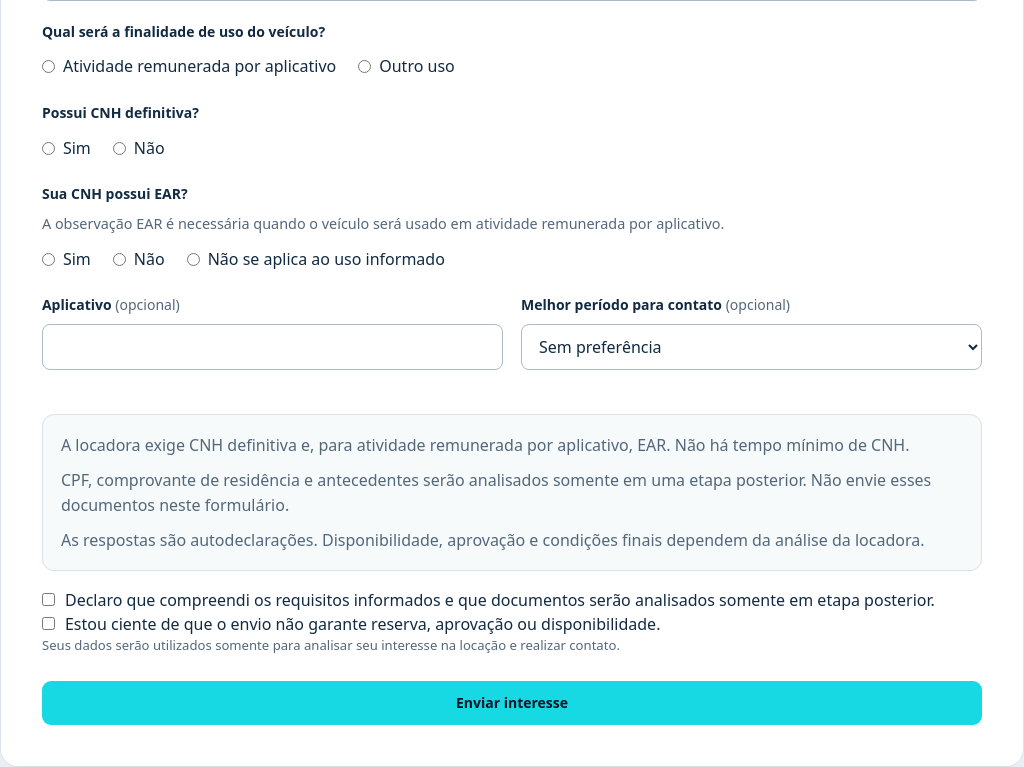
Test: exibe continuidade somente no sucesso com URL retornada pelo servidor: {"status":"success","message":"Sucesso"}
The image size is (1024, 767).
(page scrolled)
Click the button "Enviar interesse" at (512, 703), box [42,681,982,725]
(page scrolled)
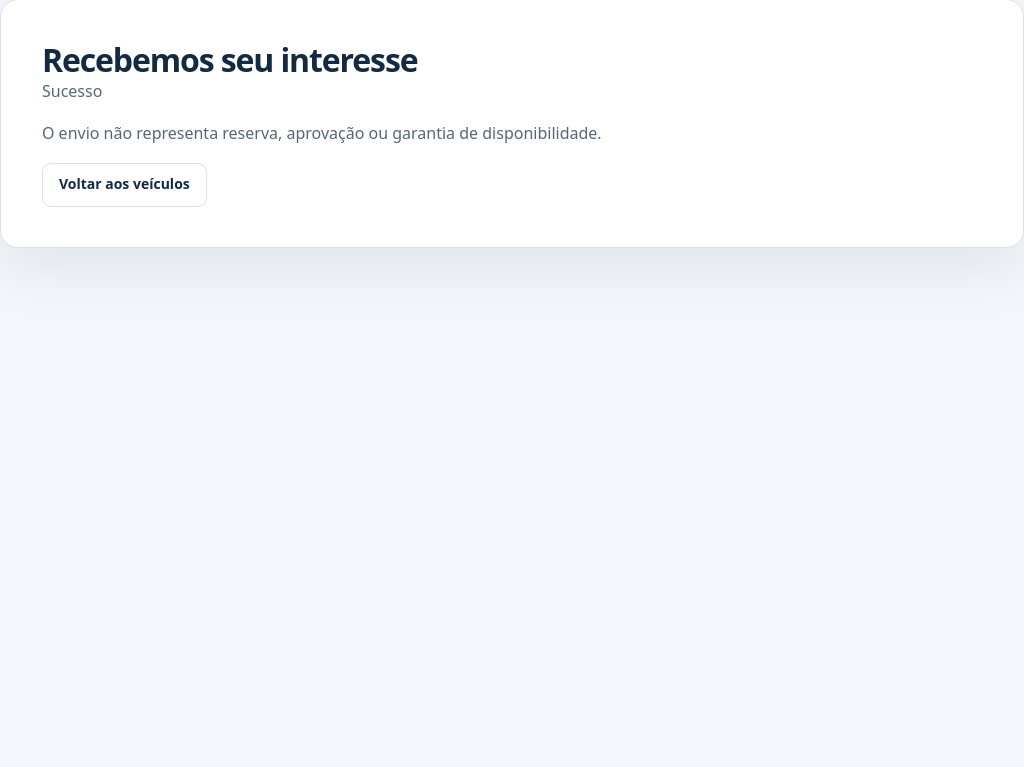
Now the text "Sucesso" is shown, box [42,80,102,102]
